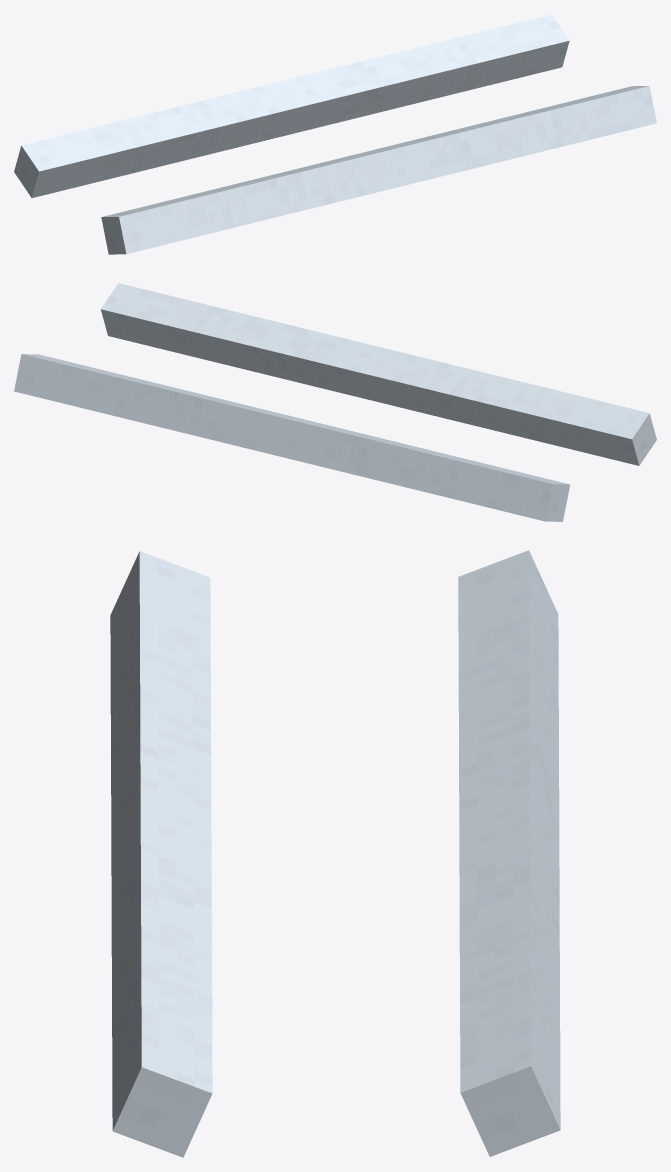
File: platform_light_half_light.obj
The picture shows the model from 3 angles, top to bottom: view 1: azimuth 30°, elevation 25°; view 2: azimuth 150°, elevation 25°; view 3: azimuth 270°, elevation 25°; orthographic projection. The views are drawn at different scales.
Parts seen in each view (by area): view 1: 0, 1; view 2: 1, 0; view 3: 1, 0.
Part boxes in pixels (x1,y1,x2,y2): 0: (14, 14, 569, 197); 1: (101, 86, 656, 254); 1: (101, 283, 656, 465); 0: (14, 354, 570, 521); 1: (110, 551, 212, 1157); 0: (458, 550, 560, 1156).
Size of the model in its own units: 16.01 by 1.34 by 5.88.
